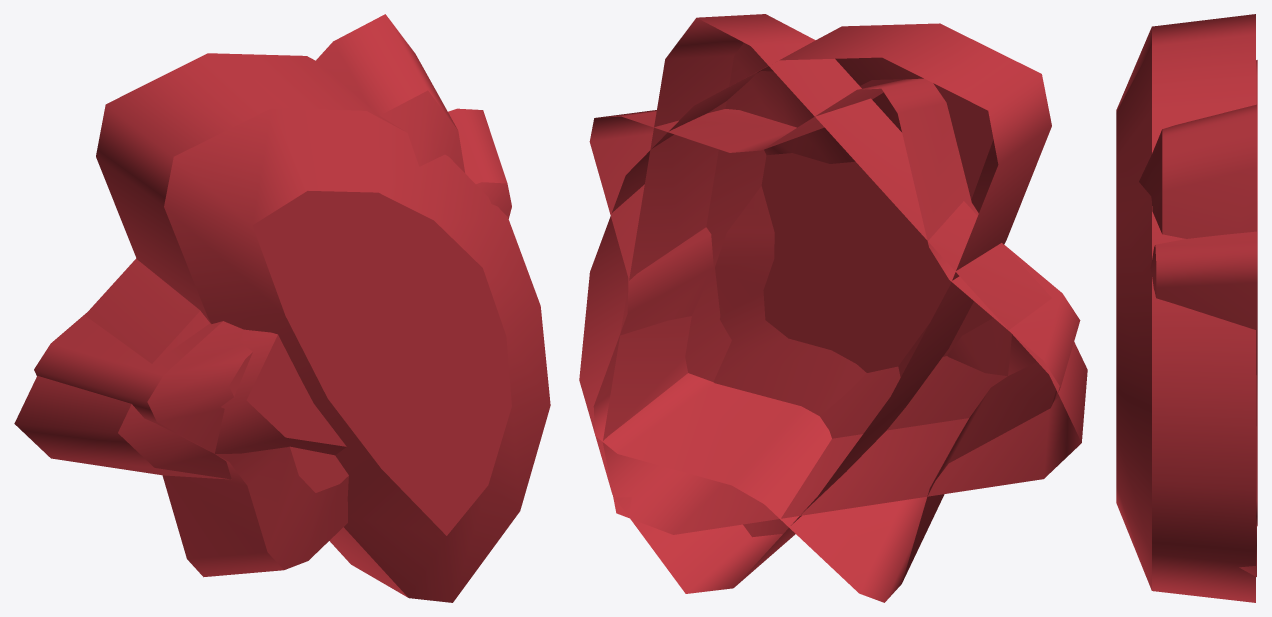
Rendered from airhockey_clutter_geo.glb.
3 renders of one model, left to right at view 1: azimuth 30°, elevation 25°; view 2: azimuth 150°, elevation 25°; view 3: azimuth 270°, elevation 25°, orthographic. The views are drawn at different scales.
Parts seen in each view (by area): view 1: half_circle, triangle, star; view 2: star, triangle, half_circle; view 3: half_circle, triangle, star.
Part boxes in pixels (left/top/right/bottom): half_circle: left=96, top=53, right=550, bottom=602; triangle: left=14, top=14, right=464, bottom=479; star: left=34, top=108, right=511, bottom=577; star: left=589, top=78, right=1080, bottom=602; triangle: left=602, top=14, right=1087, bottom=534; half_circle: left=579, top=23, right=1051, bottom=593; half_circle: left=1116, top=14, right=1255, bottom=602; triangle: left=1139, top=104, right=1256, bottom=576; star: left=1150, top=60, right=1257, bottom=526.
Bounding box in the file's own units: 0.4773 × 0.5298 × 0.1388.
